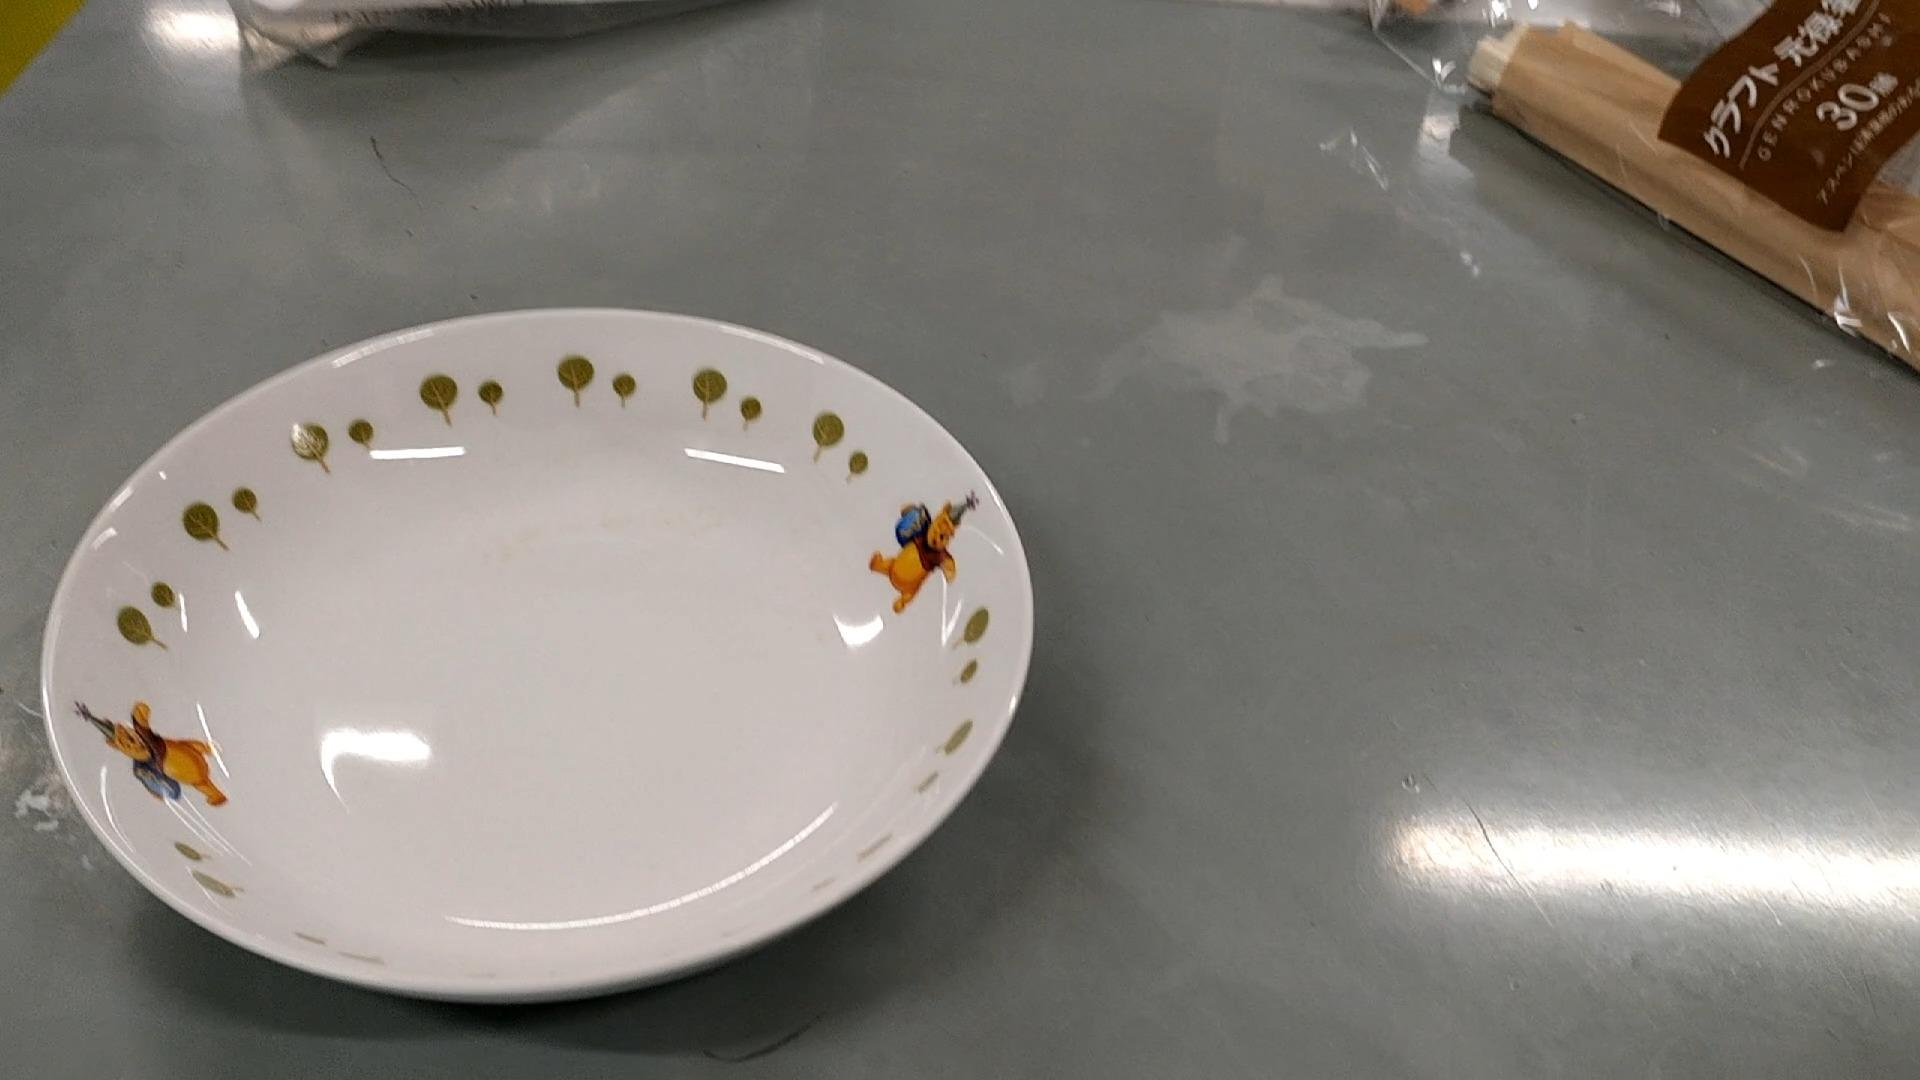plate: (47, 306, 1039, 1010)
